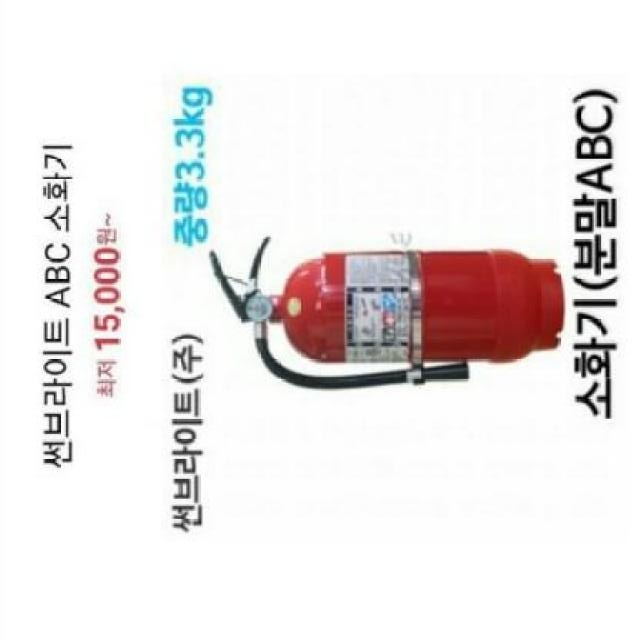fire extinguisher: (209, 234, 565, 391)
